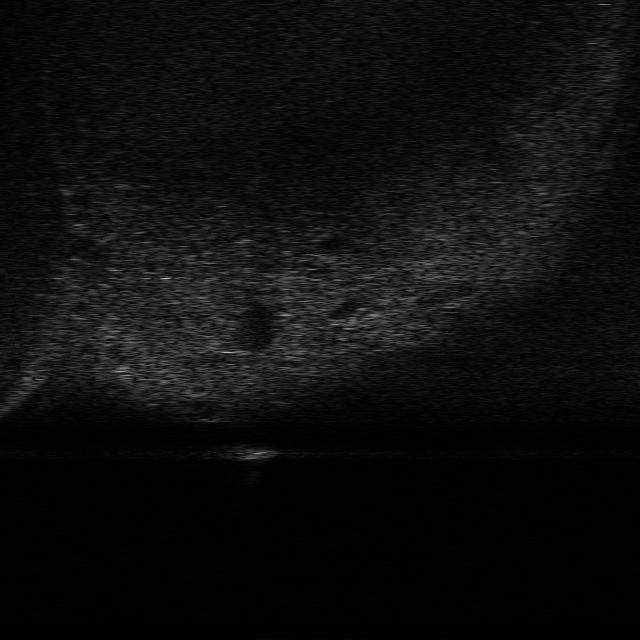cube: (208, 442, 284, 462)
